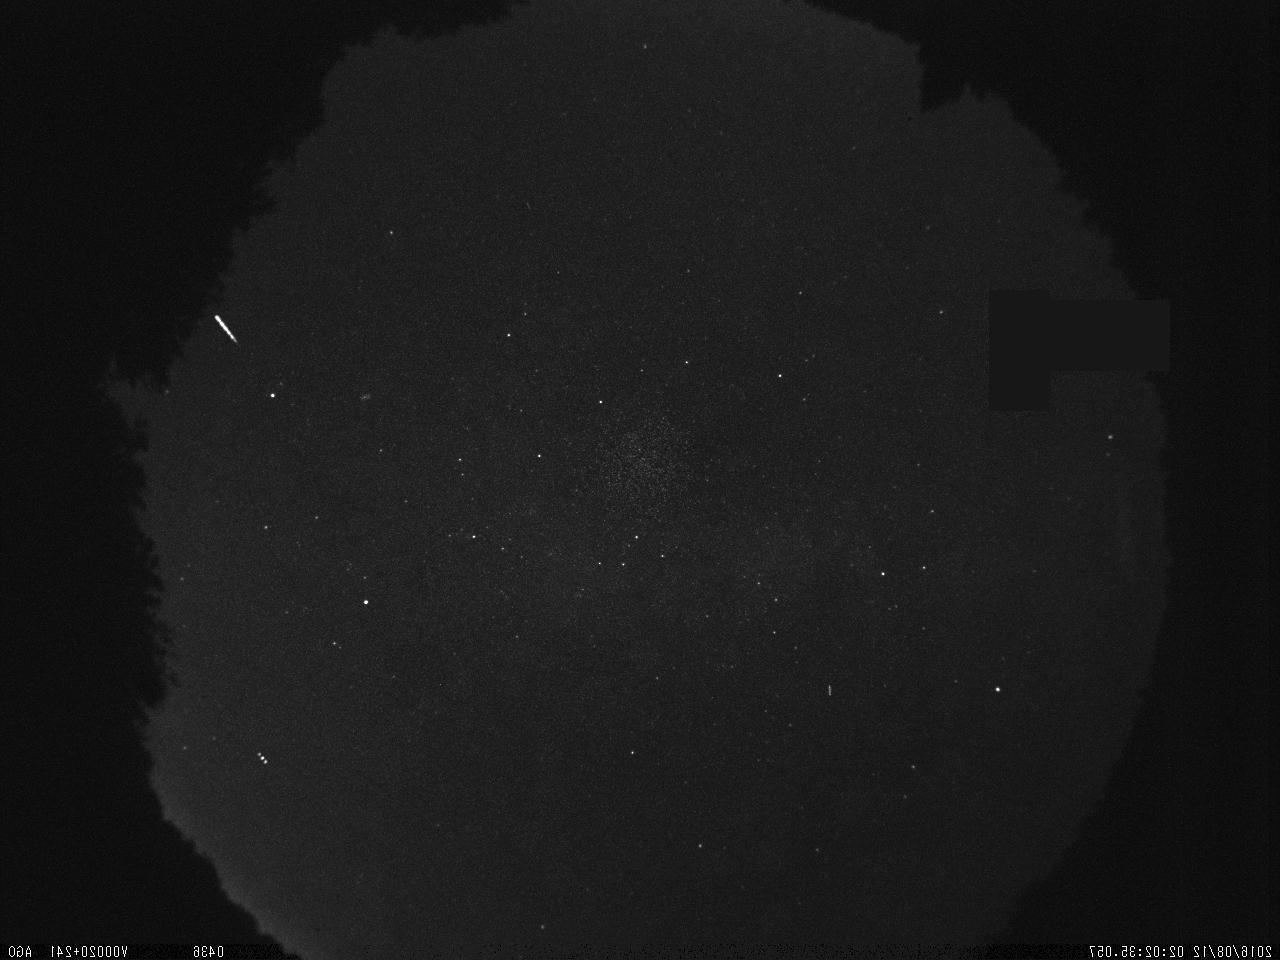meteor: (206, 303, 242, 357)
